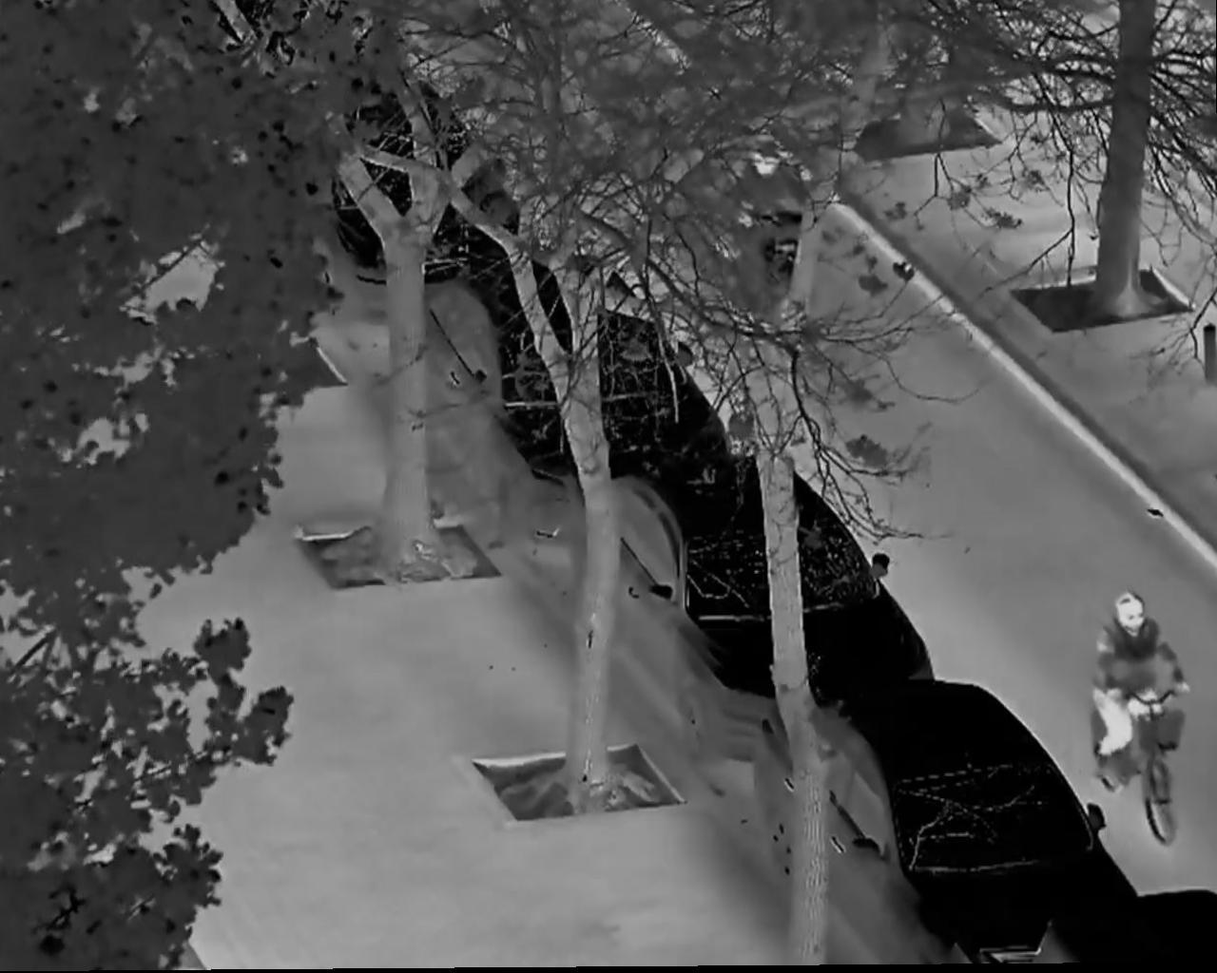person: (1093, 591, 1193, 792), (735, 141, 816, 291)
